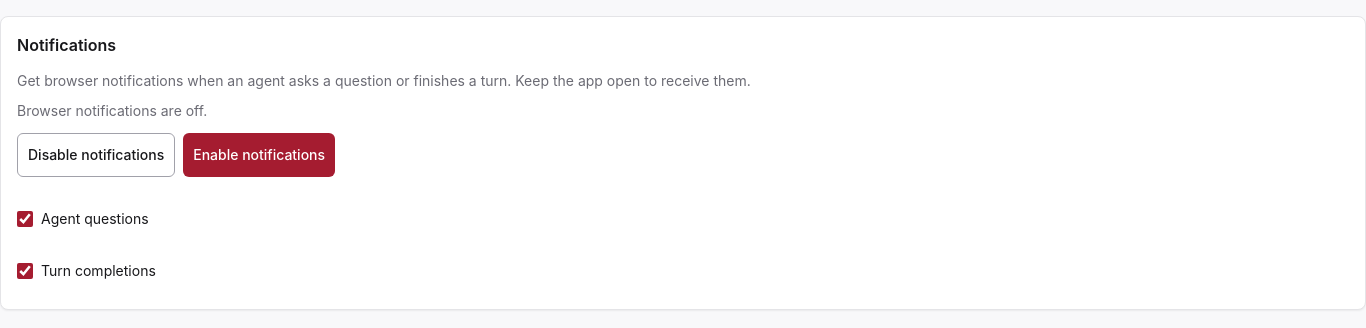
Scenario: notification settings › offers to restore permission when saved notifications are enabled but browser permission resets
Expected: the text "Browser notifications are off." is shown, left=17, top=102, right=207, bottom=119
Expected: the button "Disable notifications" is enabled, left=17, top=133, right=175, bottom=177
Click the button "Enable notifications".
click(259, 155)  # box left=183, top=133, right=335, bottom=177
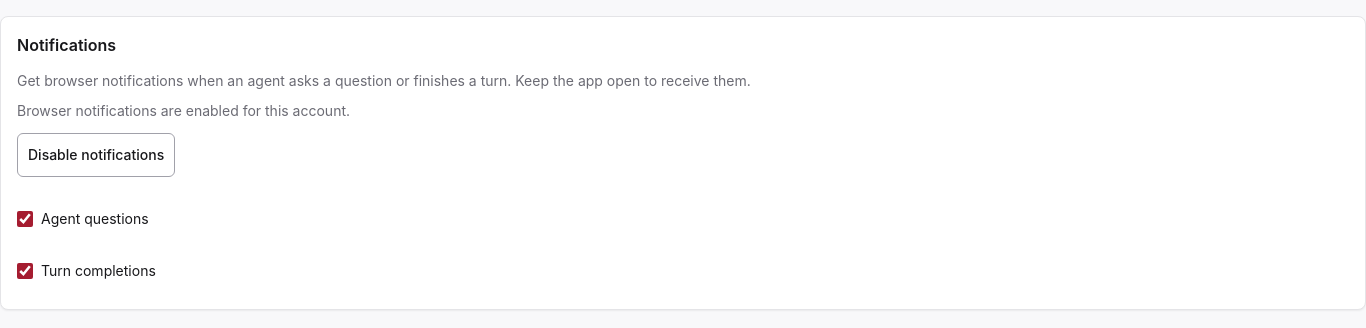
Expected: the button "Disable notifications" is enabled, left=17, top=133, right=175, bottom=177
Expected: the text "Browser notifications are enabled for this account." is shown, left=17, top=102, right=350, bottom=119
Expected: the button "Enable notifications" is gone
